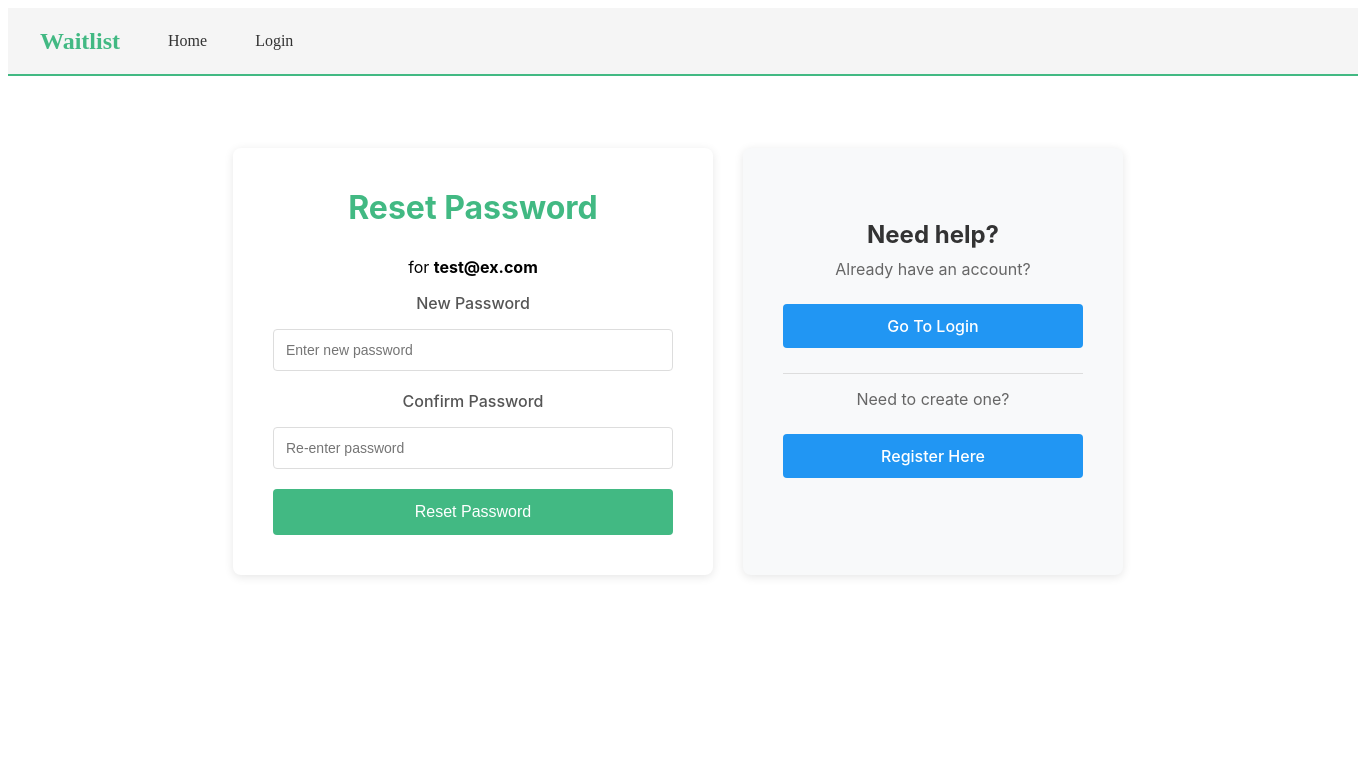
Test: Reset Password page › submits the form successfully
Type "newpass" into the password field with id "newPassword". click: [473, 350]
box: [273,329,673,371]
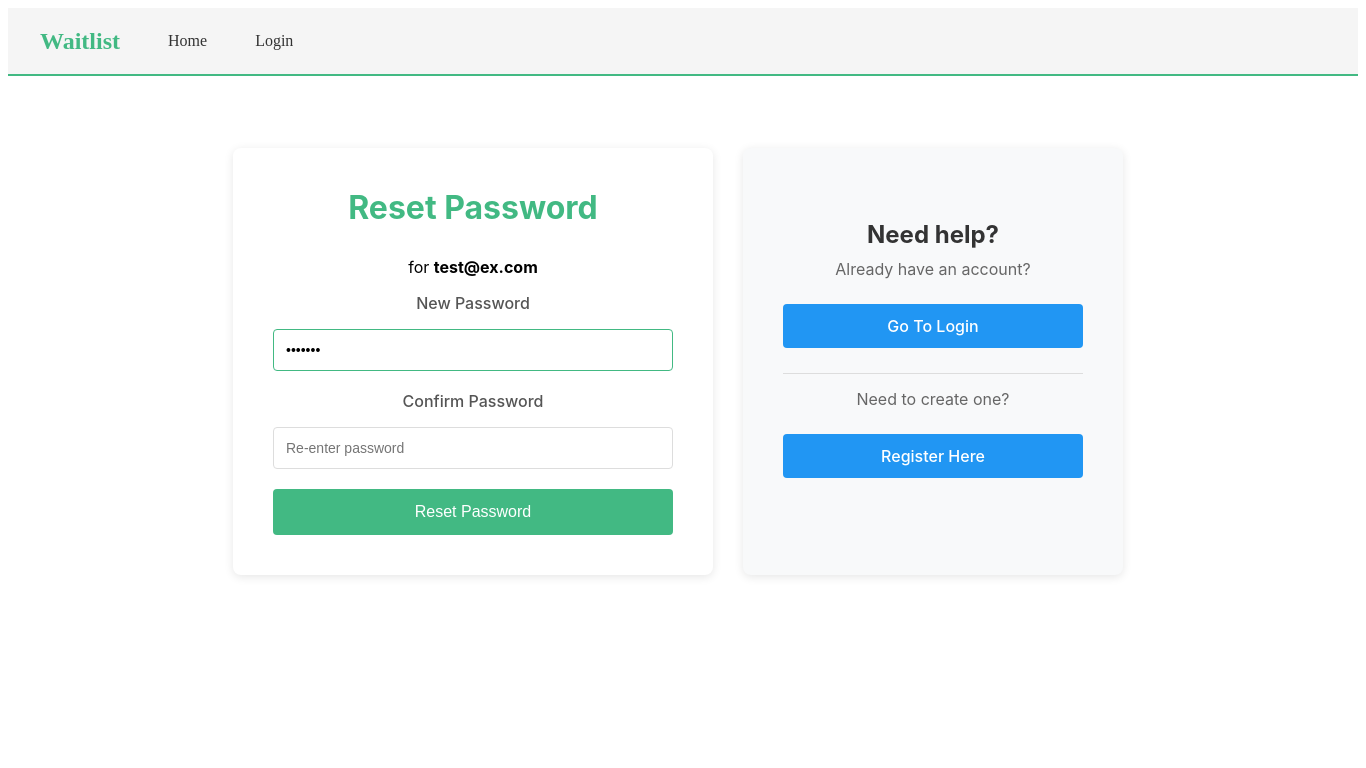
Type "newpass" into the password field with id "confirmPassword". click: [473, 448]
box: [273,427,673,469]
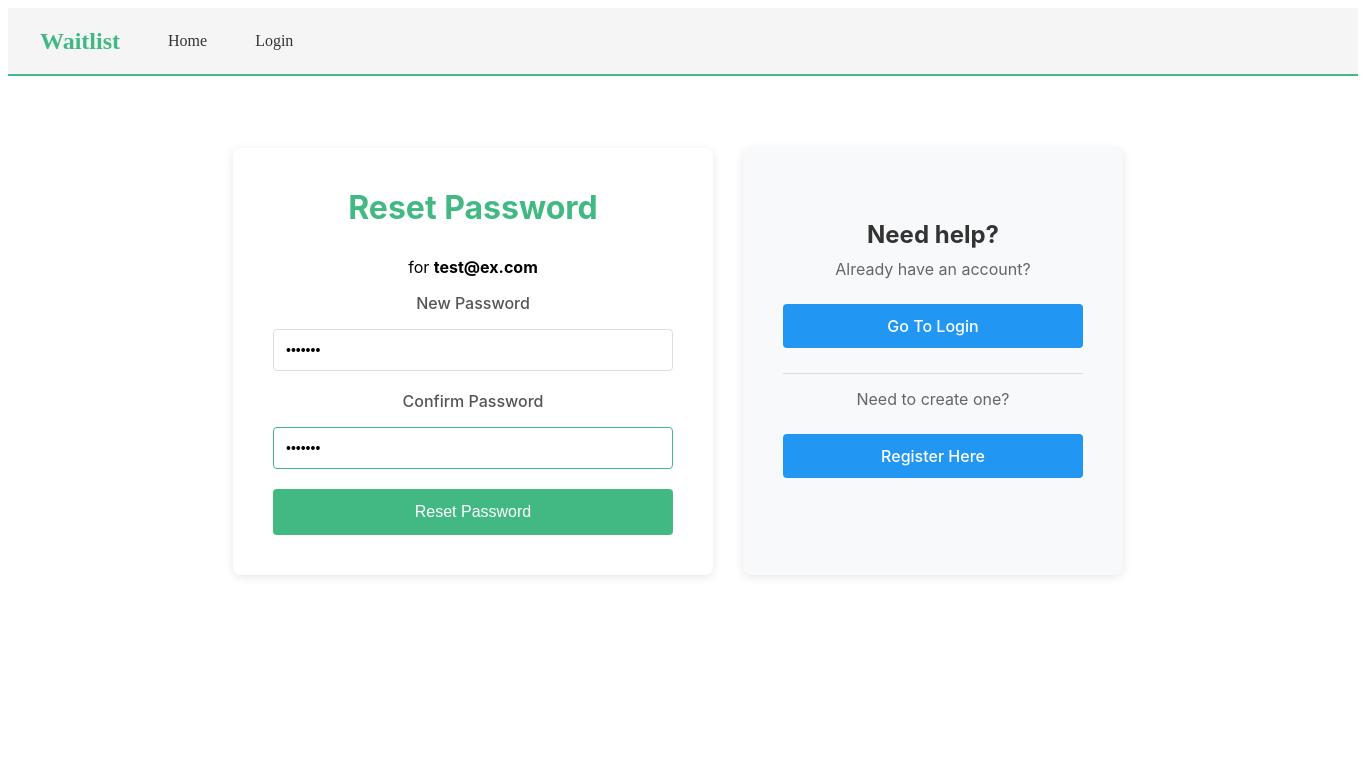
Click the submit button. click: [473, 512]
box: [273,489,673,535]
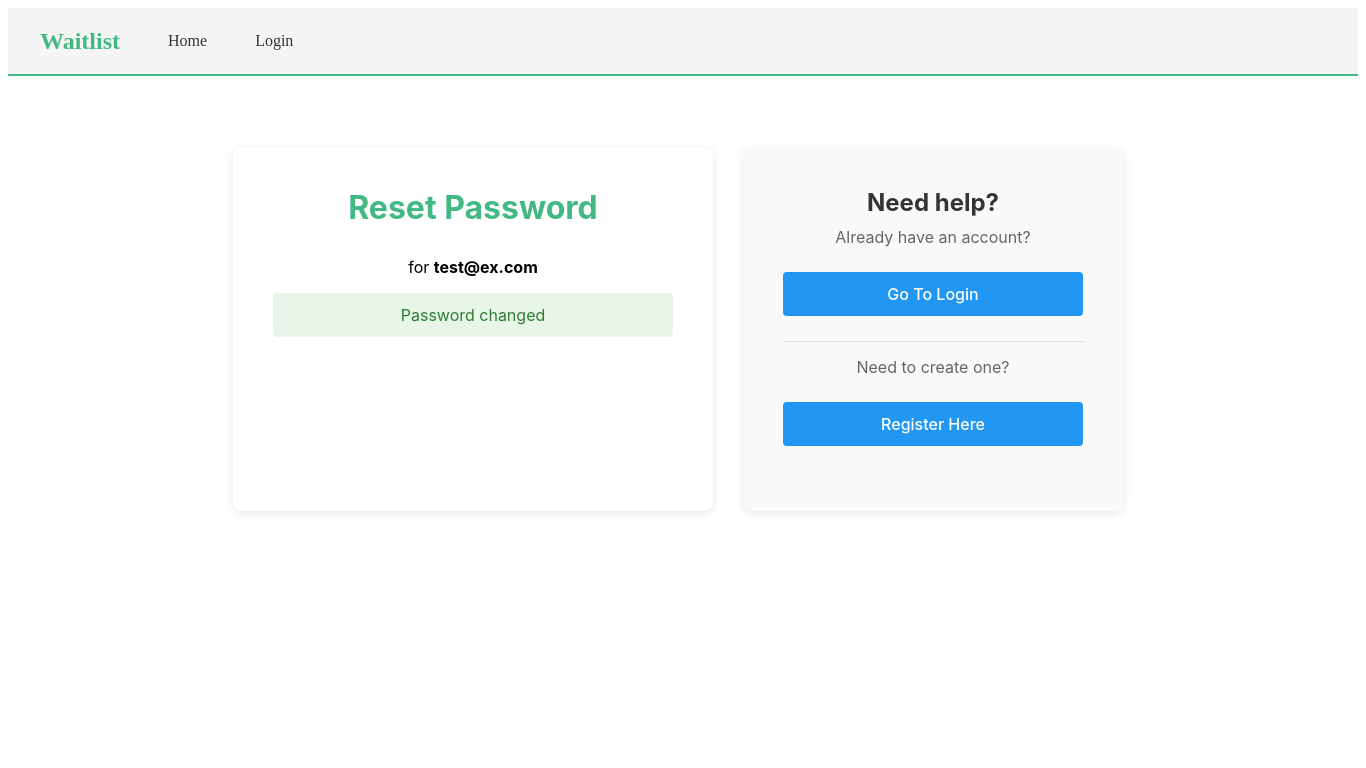
Result: the text "Password changed" is shown at [273,293,673,337]
